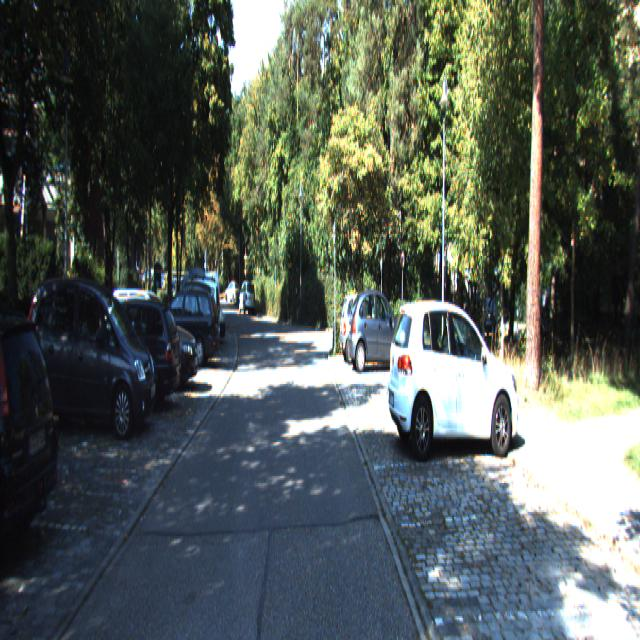Car: (23, 267, 158, 438), (384, 294, 522, 459), (0, 292, 63, 575), (68, 293, 182, 414), (102, 281, 200, 390), (148, 280, 219, 363), (346, 289, 408, 377), (339, 290, 394, 364), (238, 282, 256, 316)
